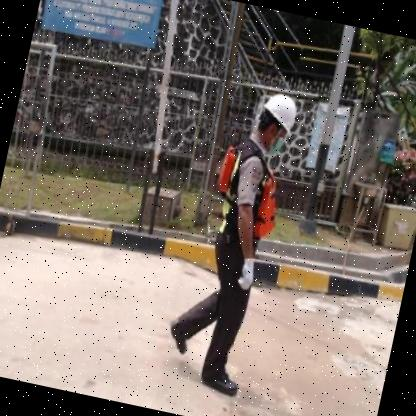bota: (195, 361, 245, 402), (158, 311, 198, 360)
capacete: (250, 83, 308, 139)
